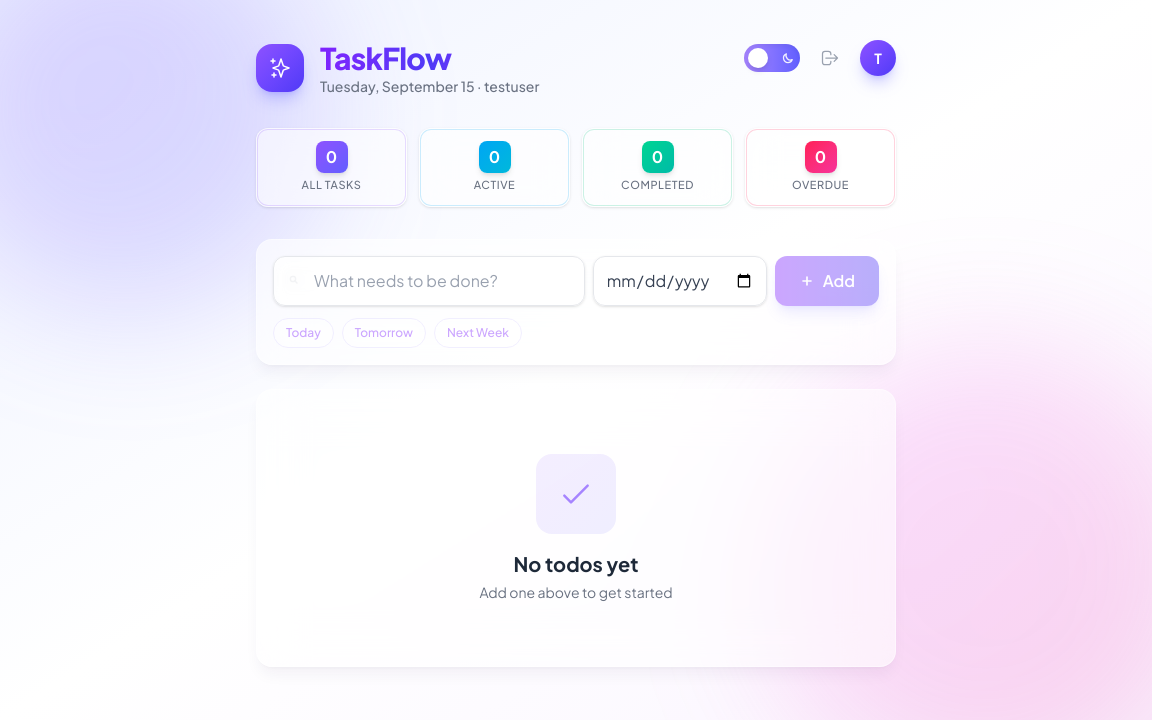
Scenario: TodoApp › editing todos › edits todo text
The image size is (1152, 720).
In the field with placeholder "What needs to be done?": (429, 280) 273,256 -> 585,306, type "Original text"
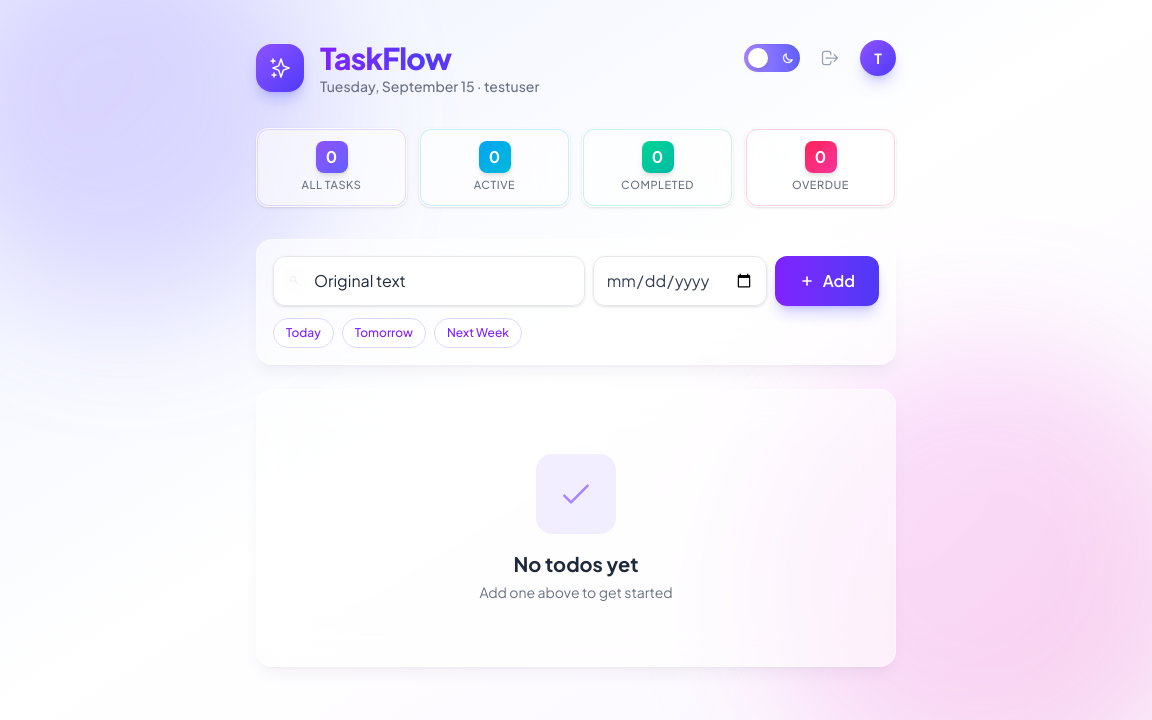
Click the button "Add": (827, 280) 775,256 -> 879,306
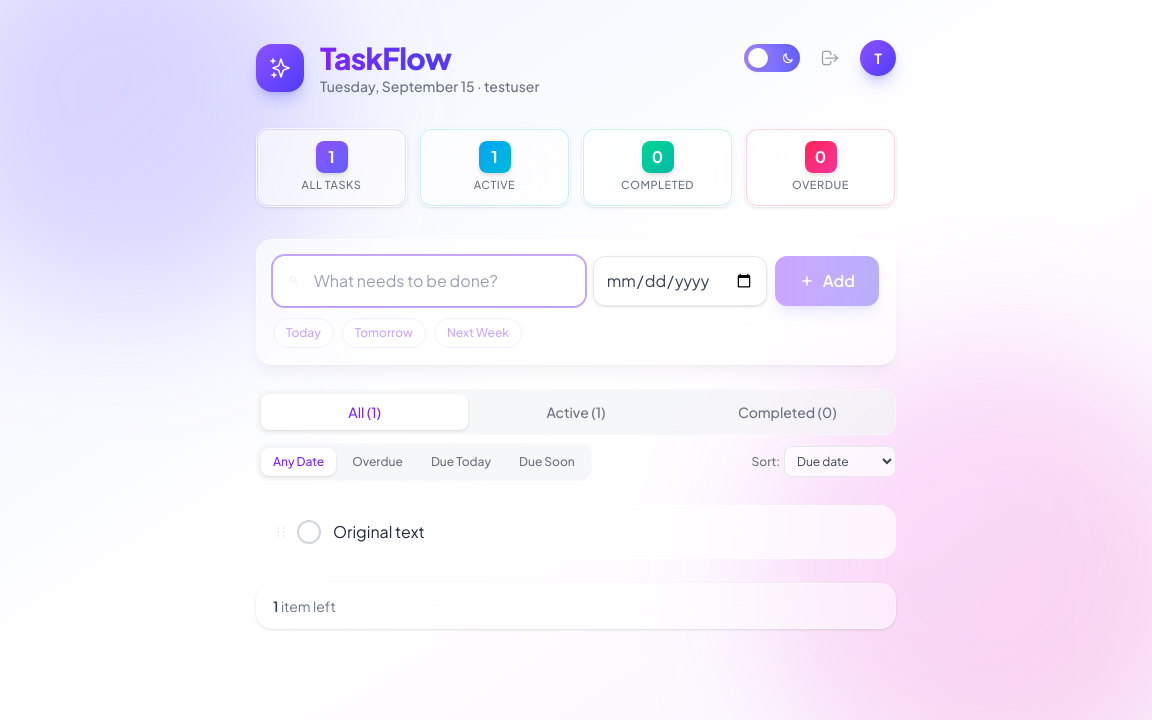
Double-click the text "Original text": (379, 531) 333,520 -> 425,542
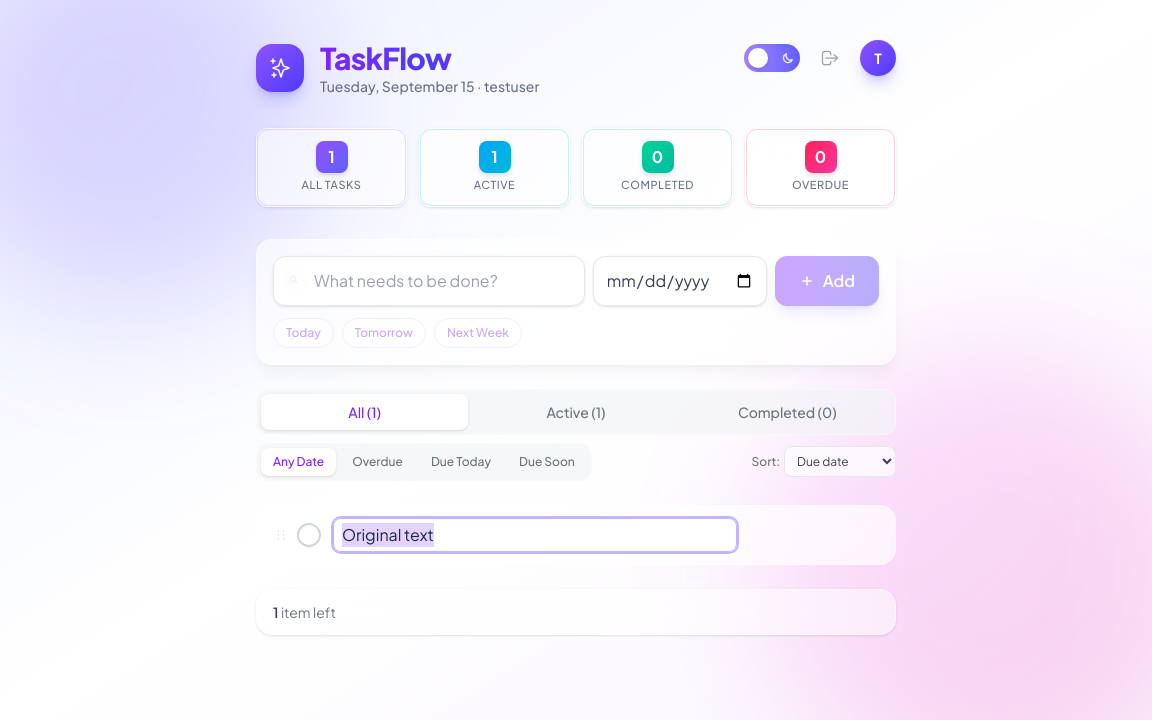
Replace the text in the field showing "Original text" with "Updated text": (535, 534) 333,518 -> 737,552
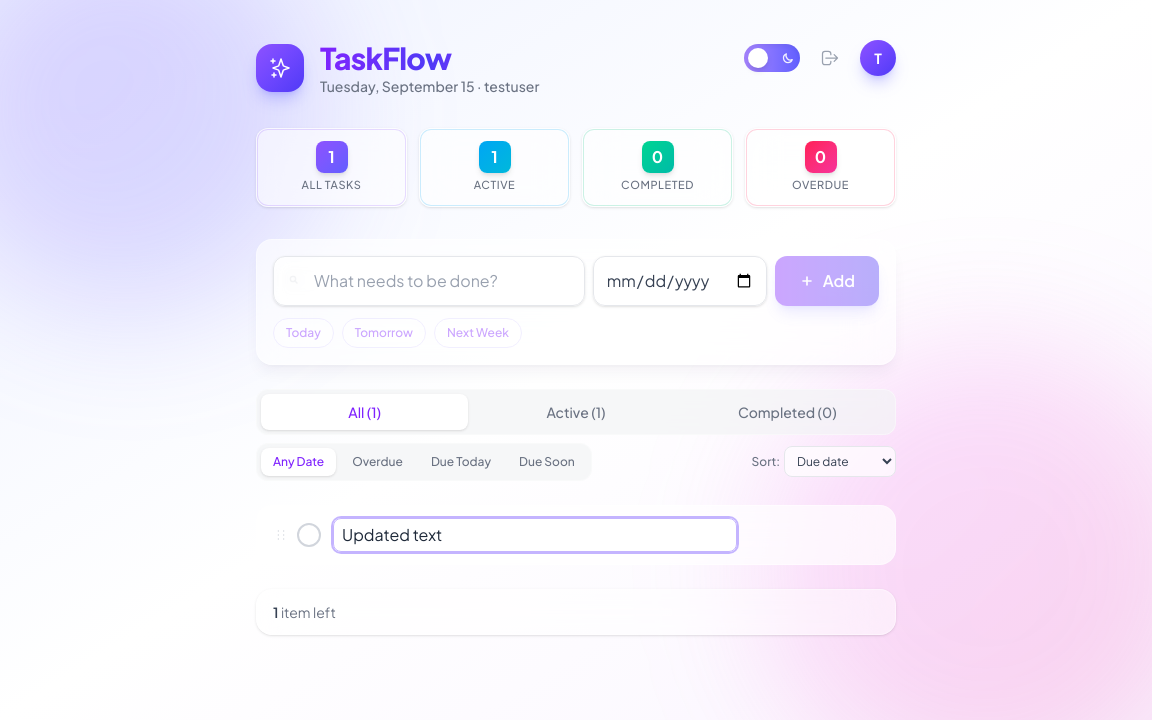
Press Enter in the field showing "Original text", box 333,518 -> 737,552
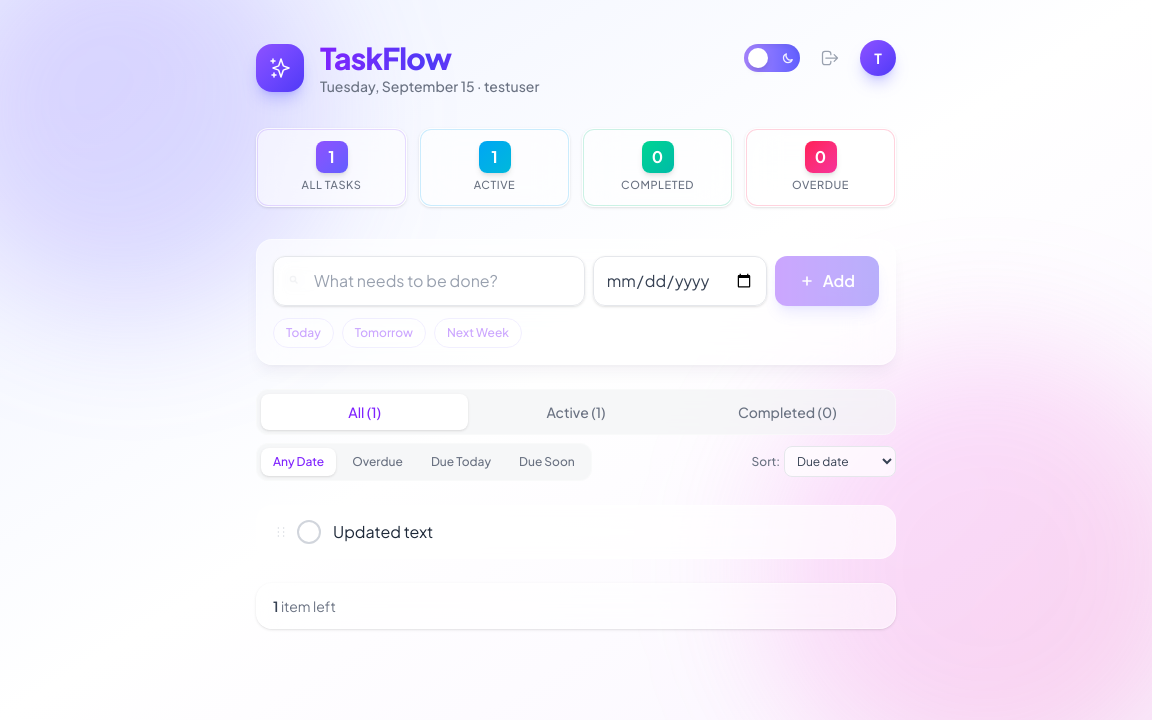
Expected: the text "Updated text" is shown, 333,520 -> 433,542
